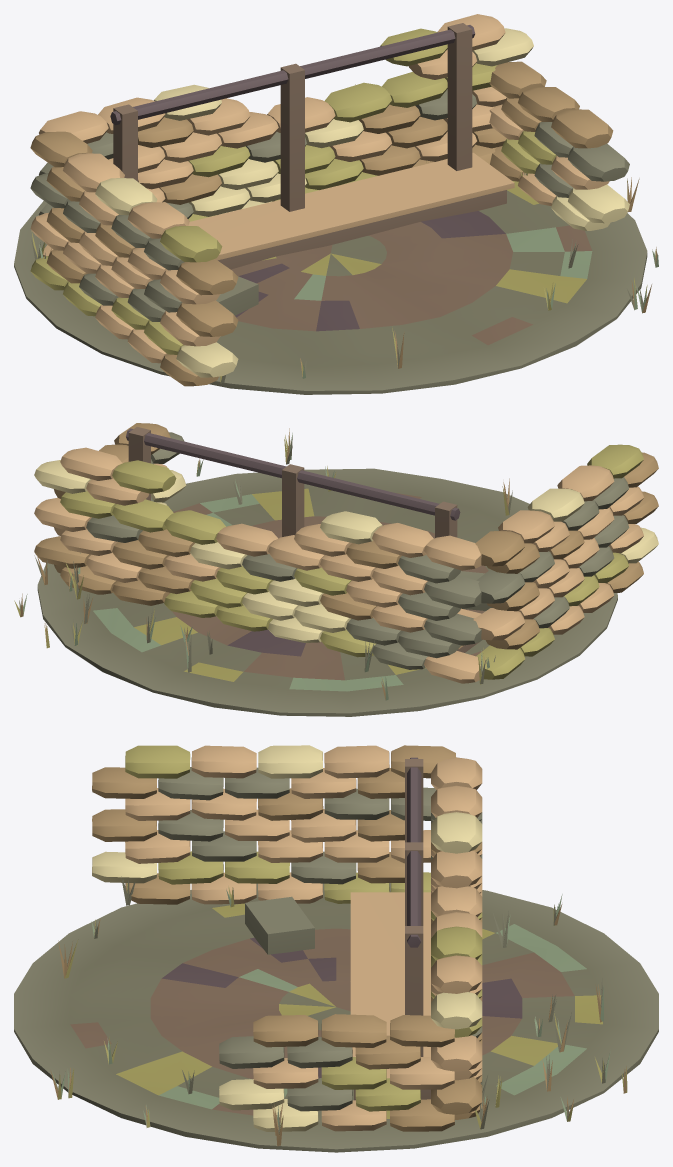
File: sandbag_bunker_v2.glb
The picture shows the model from 3 angles, top to bottom: view 1: azimuth 30°, elevation 25°; view 2: azimuth 150°, elevation 25°; view 3: azimuth 270°, elevation 25°; orthographic projection. The views are drawn at different scales.
Visible parts, largest first — view 1: Body; view 2: Body; view 3: Body.
Part boxes in pixels (<box>): Body: <box>14,14,658,394</box>; Body: <box>14,423,658,716</box>; Body: <box>14,745,658,1152</box>.
Bounding box in the file's own units: 0.928 × 0.264 × 0.9133.
